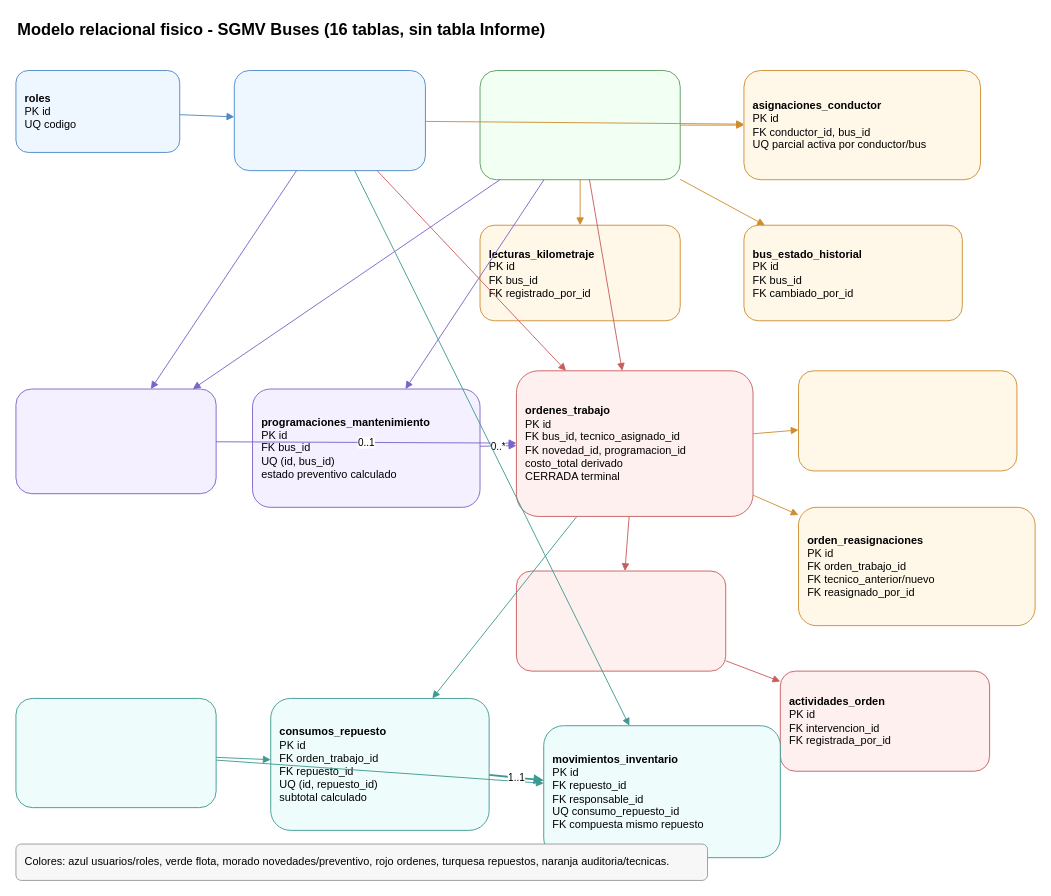
Image size: 1051x896. Some labels were removed from this diagram. The box of each missing label's shape, as (x1, y1, x2, y2) in pixels:
buses PK id UQ codigo_interno + upper UQ placa + upper: (479, 70, 680, 180)
intervenciones PK id FK orden_trabajo_id FK tecnico_id: (516, 570, 726, 671)
novedades PK id FK conductor_id, bus_id UQ (id, bus_id): (15, 388, 216, 494)
orden_estado_historial PK id FK orden_trabajo_id FK cambiado_por_id: (798, 370, 1017, 471)
repuestos PK id UQ codigo + upper stock_actual no negativo: (15, 698, 216, 808)
usuarios PK id FK rol_id UQ email + lower(email): (233, 70, 425, 171)
